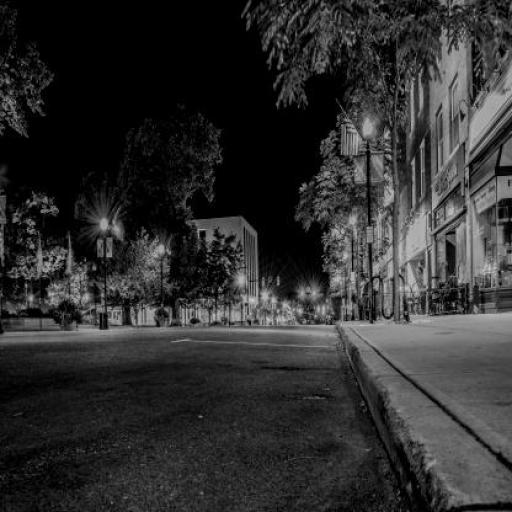street light: (362, 117, 375, 323), (99, 218, 110, 325), (349, 217, 357, 321), (158, 244, 166, 324), (239, 276, 245, 325), (344, 254, 348, 321), (264, 292, 268, 326), (272, 298, 276, 325), (283, 303, 286, 324)
